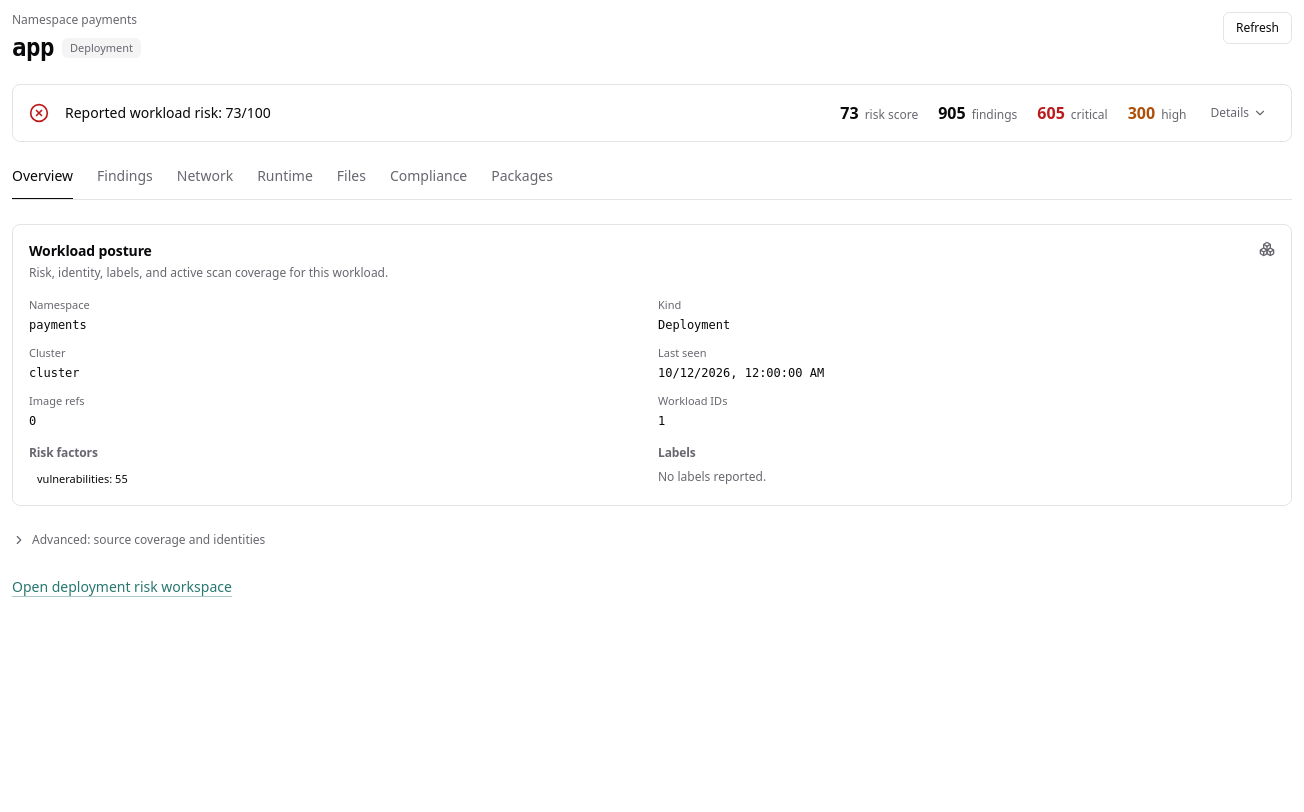
Test: has five authoritative metrics and one URL workspace instead of every evidence section
Expected: the element with test id "deployment-stats" shows "905", 938,102 -> 966,124
Press the mouse on the tab "Runtime" at coordinates (285, 181), box 257,162 -> 313,200
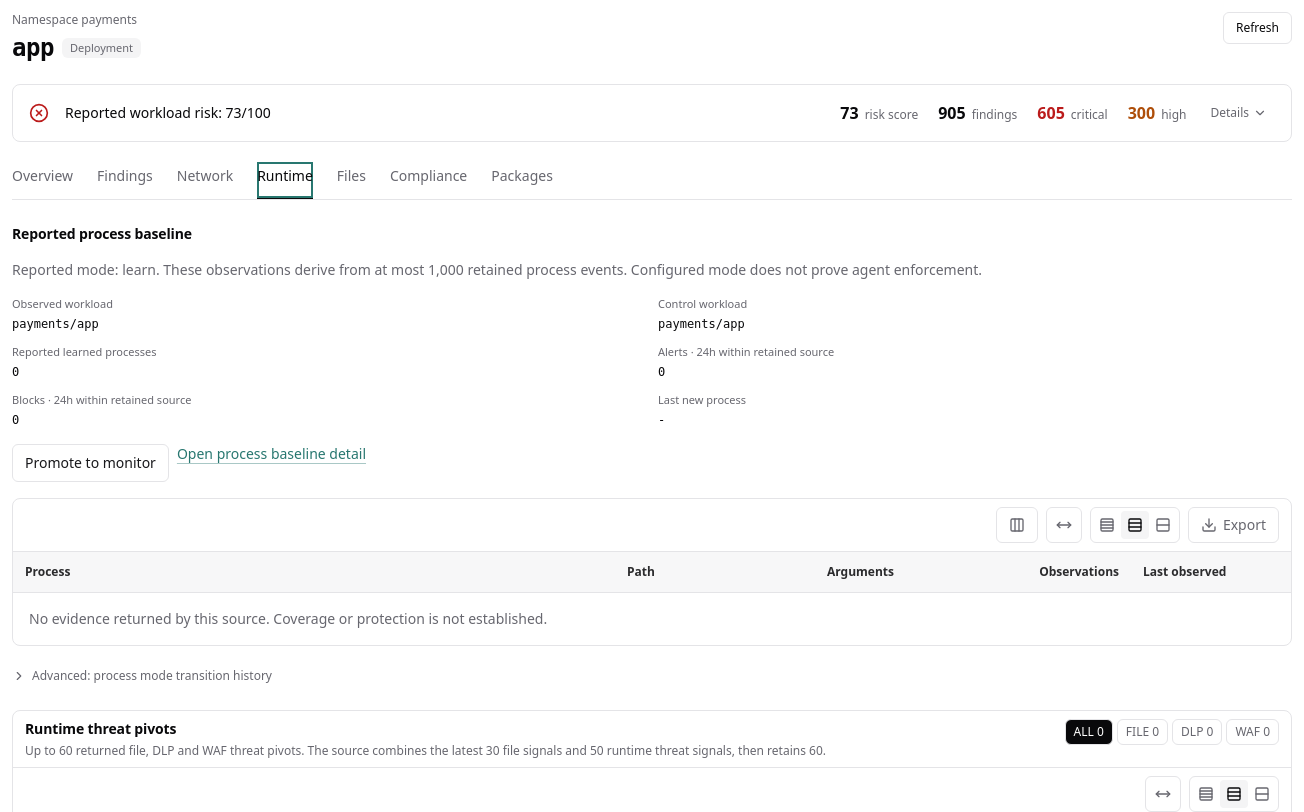
Result: the element with test id "deployment-process-baseline" is shown at 12,224 -> 1292,690
